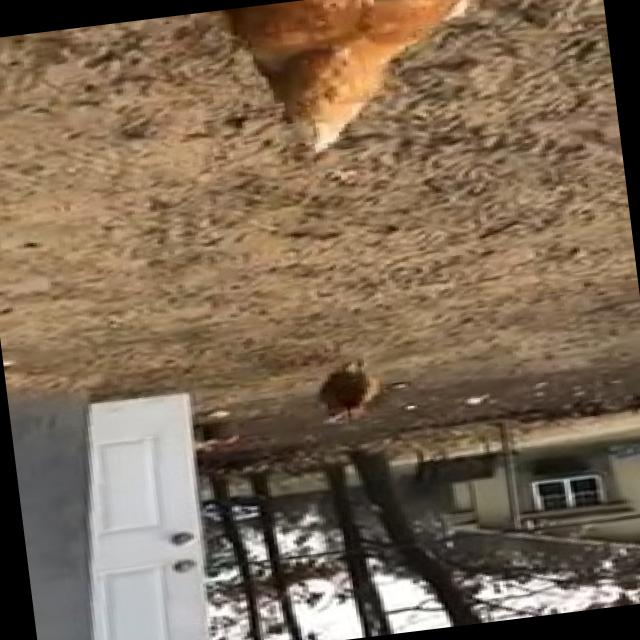running: (290, 345, 404, 446)
